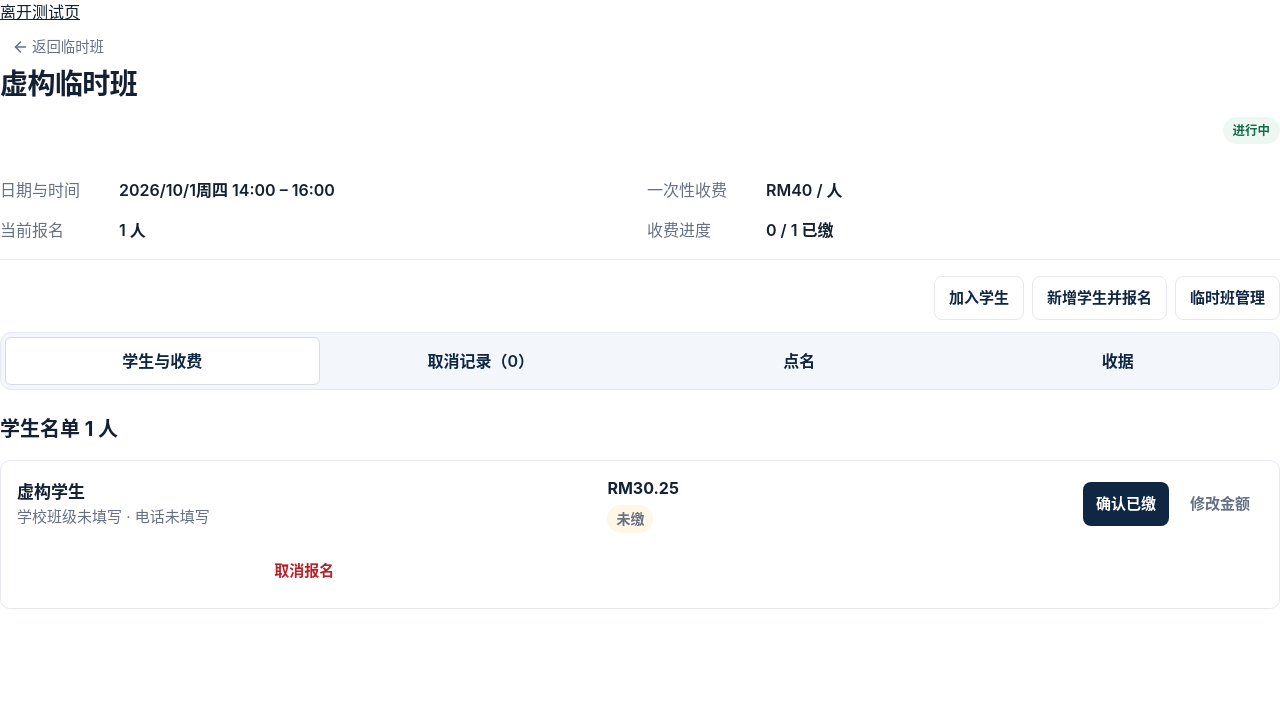
Test case: failed roster refresh retains the confirmation snapshot and protection (submitting=false)
The width and height of the screenshot is (1280, 720).
Click the button "取消报名".
click(304, 570)  # box left=17, top=548, right=591, bottom=592
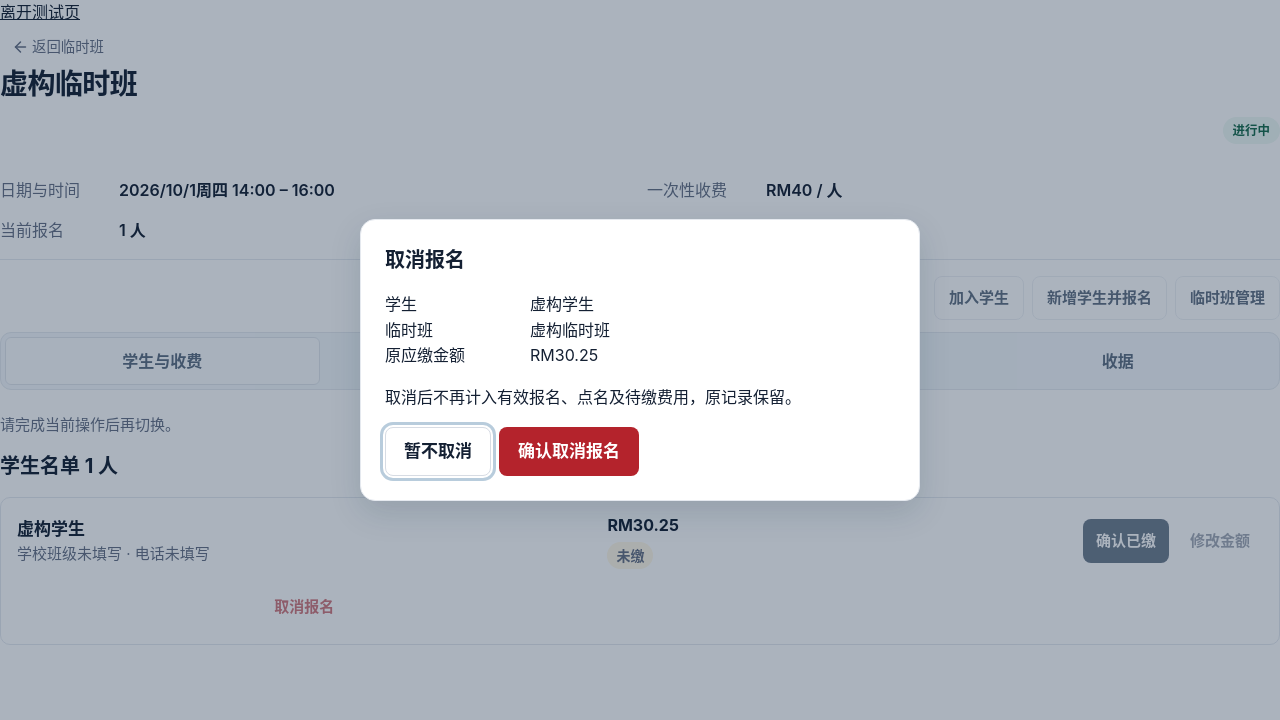
expect the dialog is shown: met, box left=360, top=219, right=920, bottom=501
Click the button "暂不取消".
click(438, 451)  # box left=385, top=427, right=491, bottom=476
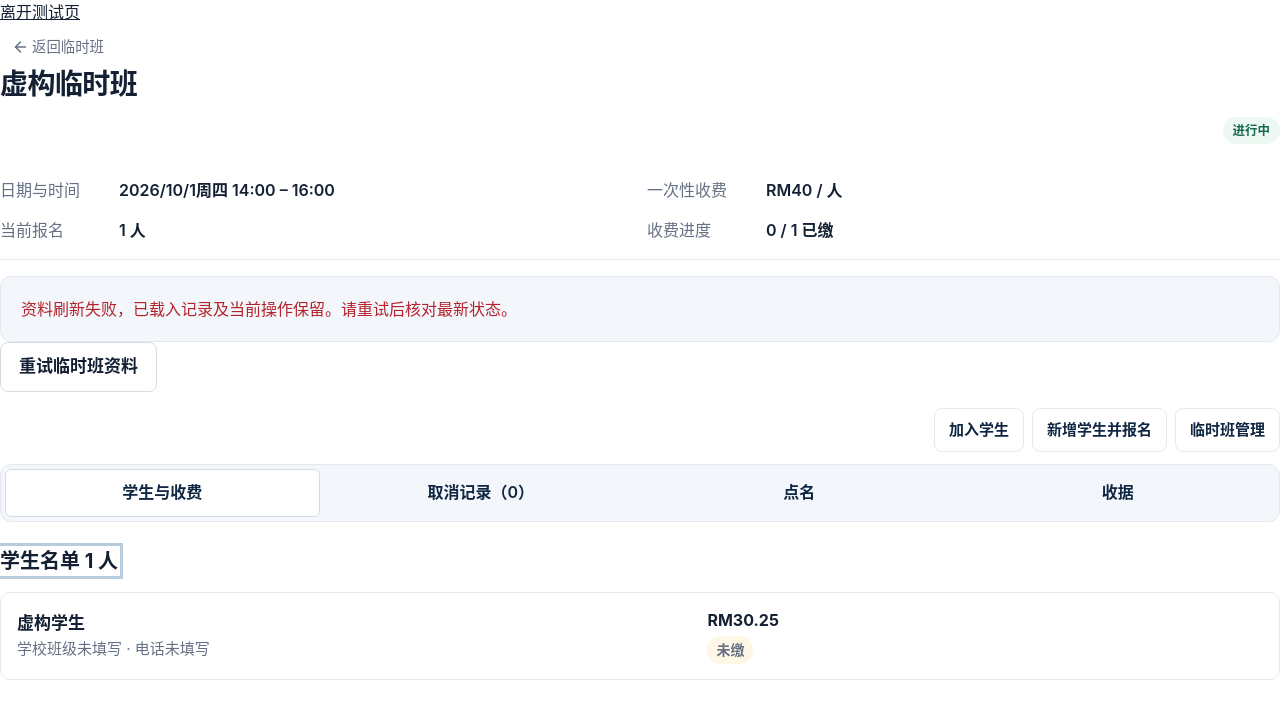
expect the dialog is gone: met
